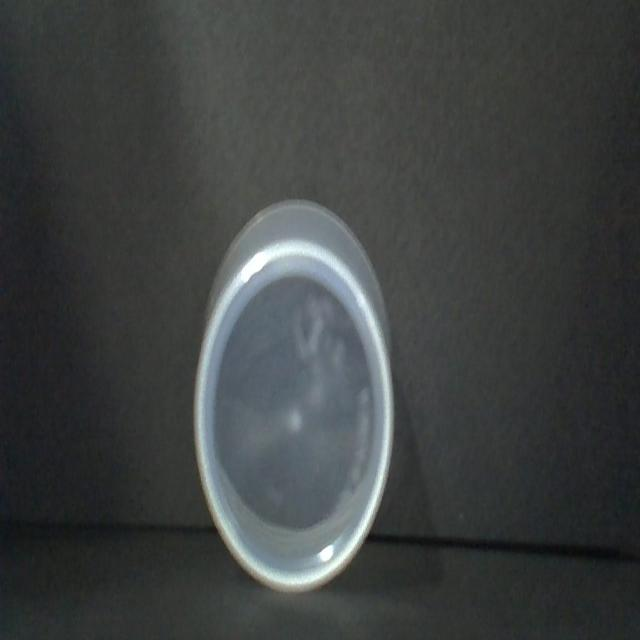cup: (199, 184, 398, 593)
